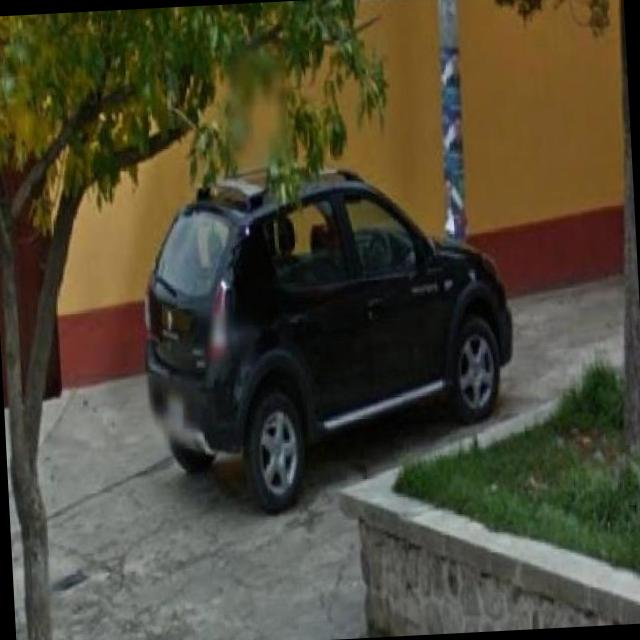car: (126, 146, 539, 544)
